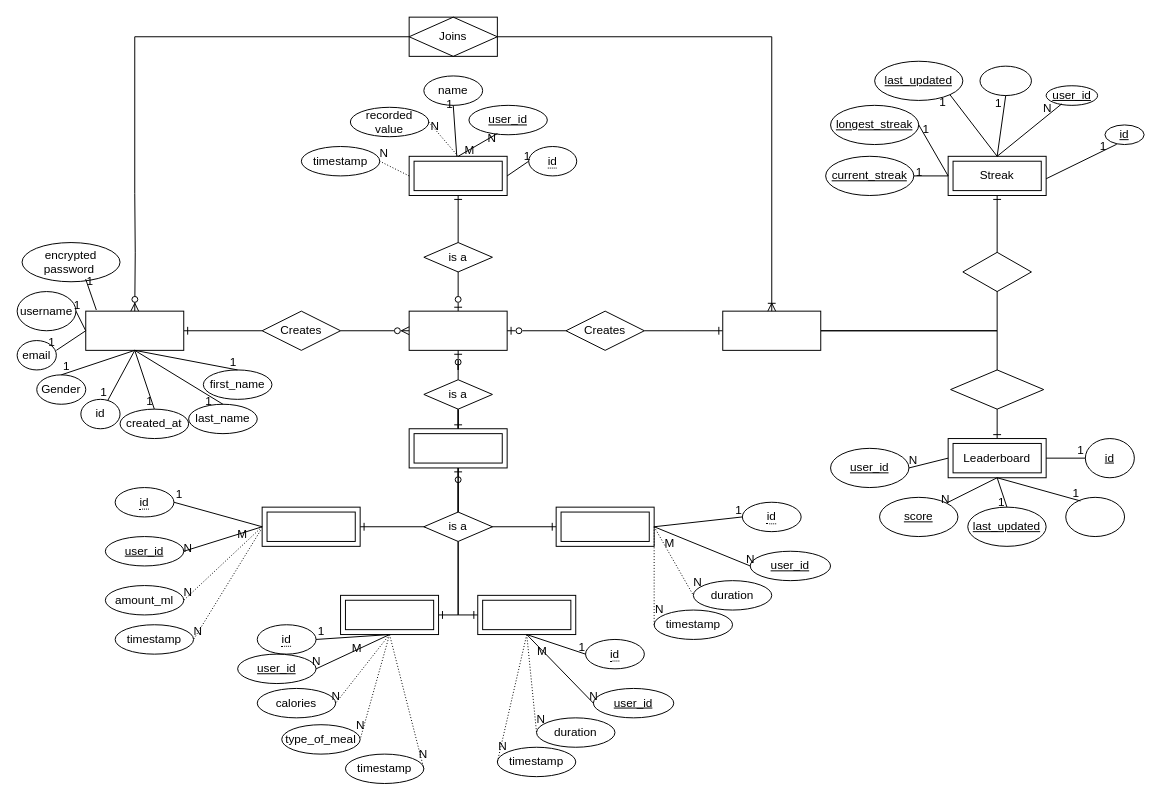
Some shapes in this 1161 by 801 pixel diagram are drawn without their labels. Here are the shapes that lost their labels. From the top down, the centre of each, then its label:
point 1005,80: habit_id
point 457,175: Custom_Habit
point 996,271: Has
point 134,330: User
point 457,330: Habit
point 771,330: Wellnest_Circle
point 997,389: Tracked by
point 457,448: Defined_Habit
point 310,526: WaterIntake
point 604,526: SleepLog
point 1095,516: group id
point 389,614: FoodIntake
point 526,614: WorkoutLog
